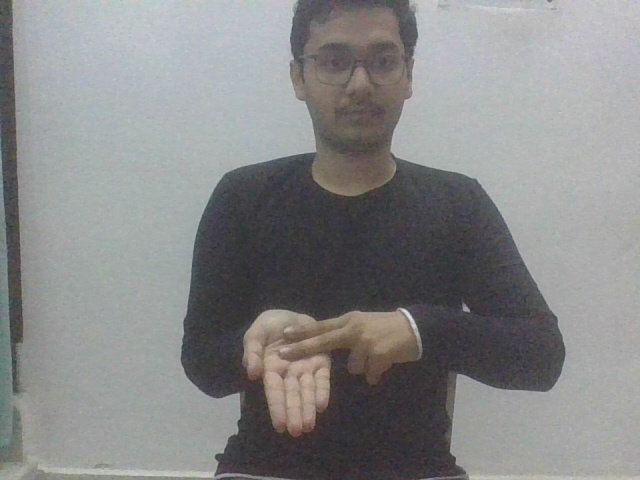N: (240, 308, 424, 439)
